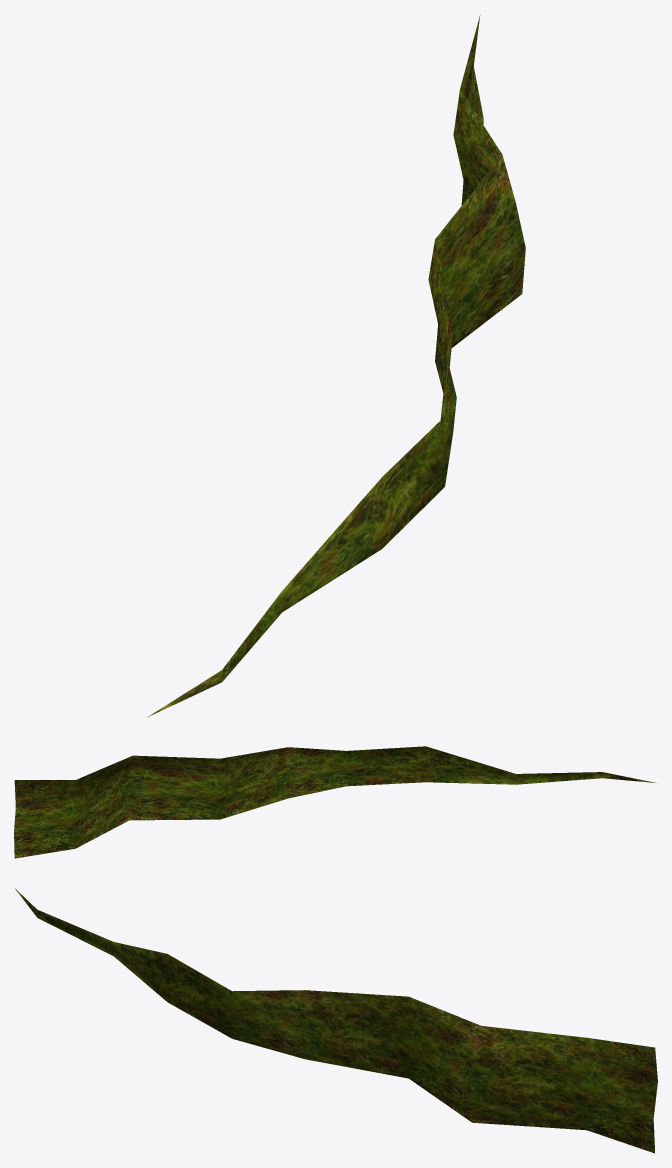
File: TROLLHOLE02_RM_PSURF197.fbx
The picture shows the model from 3 angles, top to bottom: view 1: azimuth 30°, elevation 25°; view 2: azimuth 150°, elevation 25°; view 3: azimuth 270°, elevation 25°; orthographic projection. The views are drawn at different scales.
Parts seen in each view (by area): view 1: TROLLHOLE02_RM_PSURF197; view 2: TROLLHOLE02_RM_PSURF197; view 3: TROLLHOLE02_RM_PSURF197.
Boxes of the visible parts, <box> form: TROLLHOLE02_RM_PSURF197: <box>147,15,525,717</box>; TROLLHOLE02_RM_PSURF197: <box>14,746,657,858</box>; TROLLHOLE02_RM_PSURF197: <box>15,888,657,1153</box>.
Size of the model in its own units: 227352 by 42113 by 231745.
Materials: 1 (1 with a texture image).
